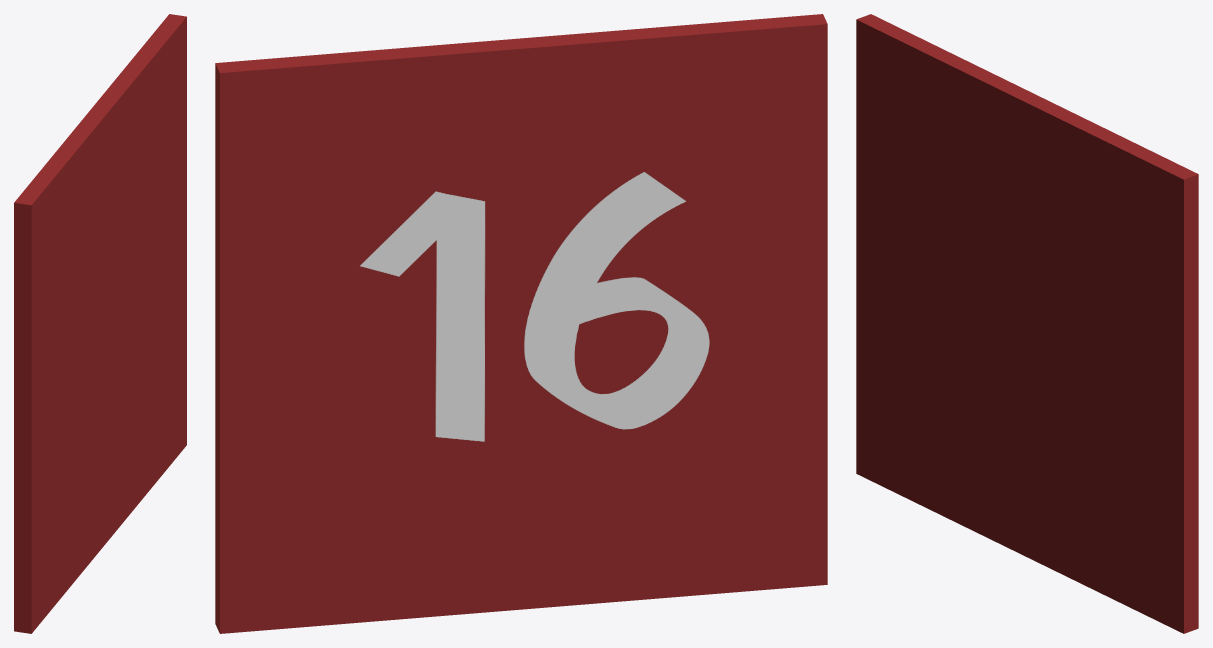
File: flap15.glb
3 renders of one model, left to right at view 1: azimuth 30°, elevation 25°; view 2: azimuth 150°, elevation 25°; view 3: azimuth 270°, elevation 25°, orthographic. The views are drawn at different scales.
Visible parts, largest first — view 1: flap.015; view 2: flap.015; view 3: flap.015.
Boxes of the visible parts, x1=… form: flap.015: x1=14, y1=14, x2=186, y2=633; flap.015: x1=215, y1=14, x2=827, y2=633; flap.015: x1=856, y1=14, x2=1198, y2=633.
Size of the model in its own units: 0.1956 by 0.25 by 0.1709.
1 material, 1 textured.
